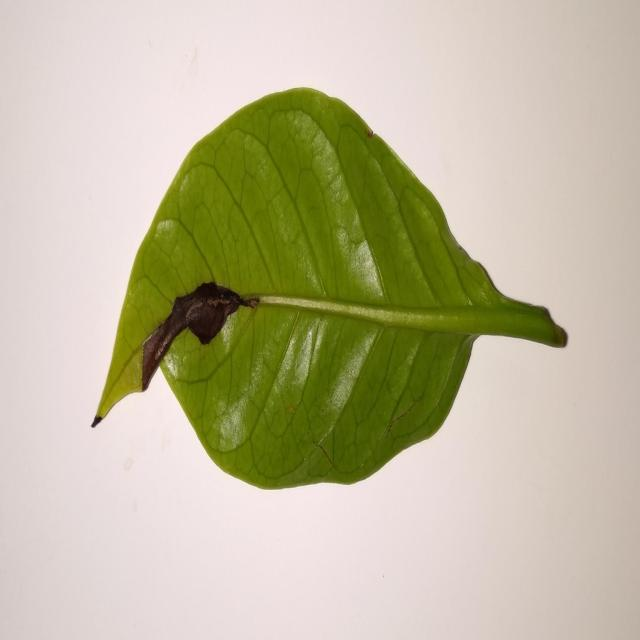Enfermedad-Antracnosis: (92, 89, 569, 493)
